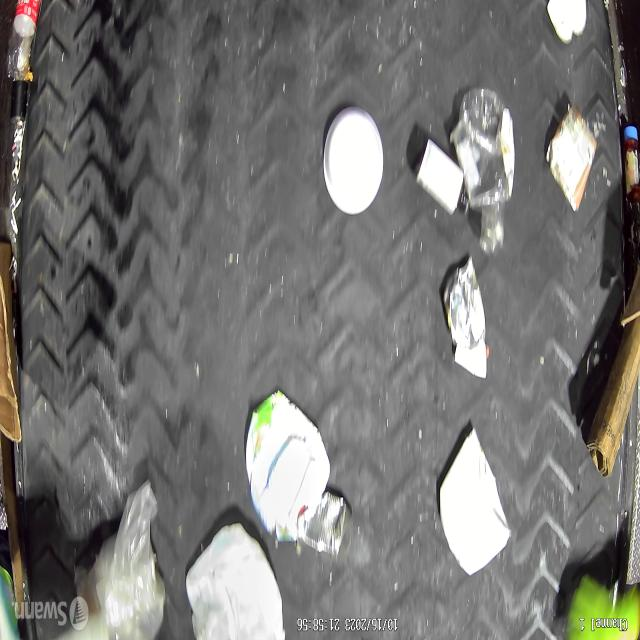can: (546, 104, 598, 212), (296, 489, 354, 567), (443, 255, 487, 350)
milk_jug: (186, 519, 285, 640)
plastic_bottle: (448, 83, 516, 258), (5, 0, 42, 86)
